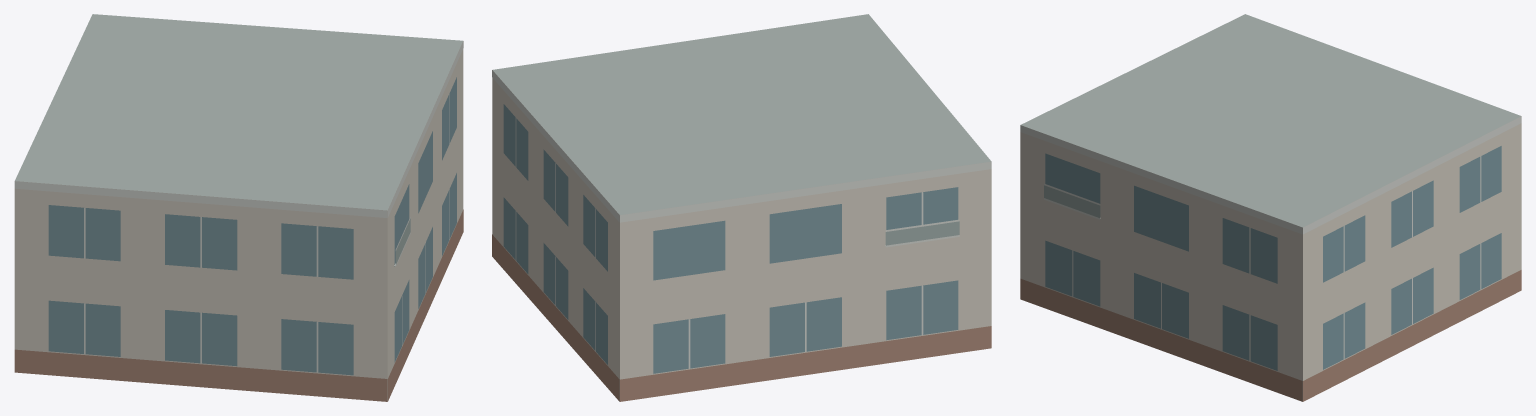
Rendered from survey-upis-32783384.glb.
The picture shows the model from 3 angles, left to right: view 1: azimuth 30°, elevation 25°; view 2: azimuth 150°, elevation 25°; view 3: azimuth 270°, elevation 25°; orthographic projection. The views are drawn at different scales.
Parts seen in each view (by area): view 1: survey-upis-32783384.tmp; view 2: survey-upis-32783384.tmp; view 3: survey-upis-32783384.tmp.
Part boxes in pixels (x1,y1,x2,y2): survey-upis-32783384.tmp: (14,14,463,401); survey-upis-32783384.tmp: (492,14,991,401); survey-upis-32783384.tmp: (1020,14,1521,401).
Bounding box in the file's own units: 16.03 × 6.1 × 15.9.
